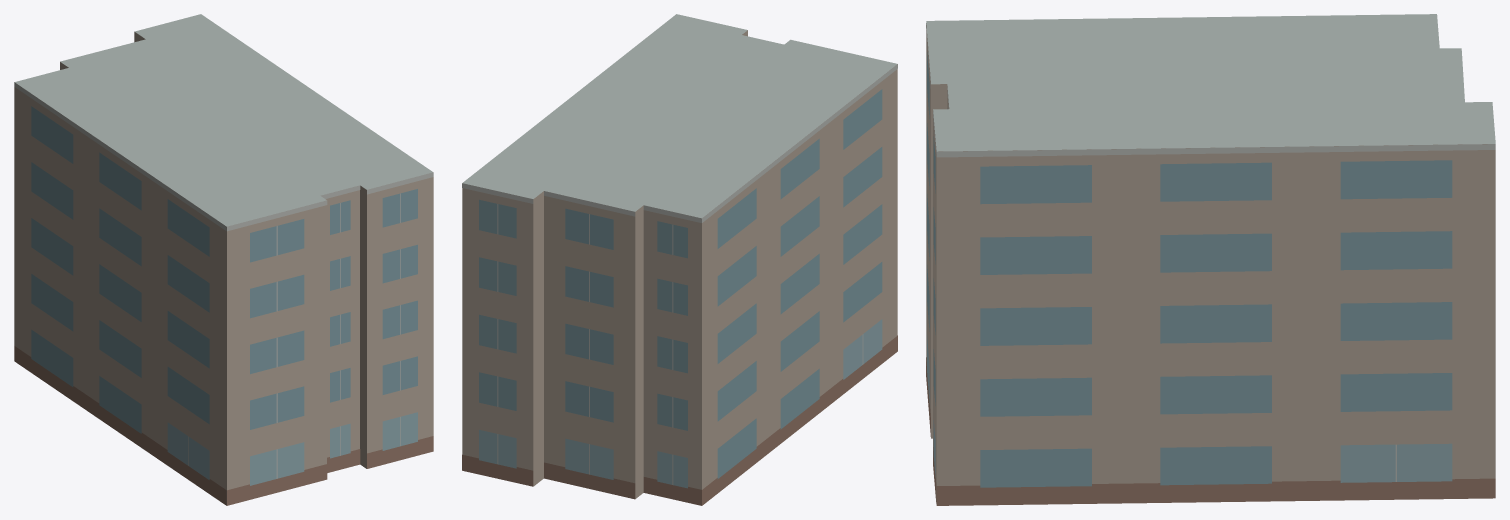
The model's file is survey-upis-32766995.glb.
3 renders of one model, left to right at view 1: azimuth 30°, elevation 25°; view 2: azimuth 150°, elevation 25°; view 3: azimuth 270°, elevation 25°, orthographic. The views are drawn at different scales.
Visible parts, largest first — view 1: survey-upis-32766995.tmp; view 2: survey-upis-32766995.tmp; view 3: survey-upis-32766995.tmp.
Boxes of the visible parts, x1,y1,x2,y2 form: survey-upis-32766995.tmp: (14,14,433,505); survey-upis-32766995.tmp: (462,14,897,505); survey-upis-32766995.tmp: (926,14,1495,505).
Bounding box in the file's own units: 12.07 × 14.5 × 21.13.
